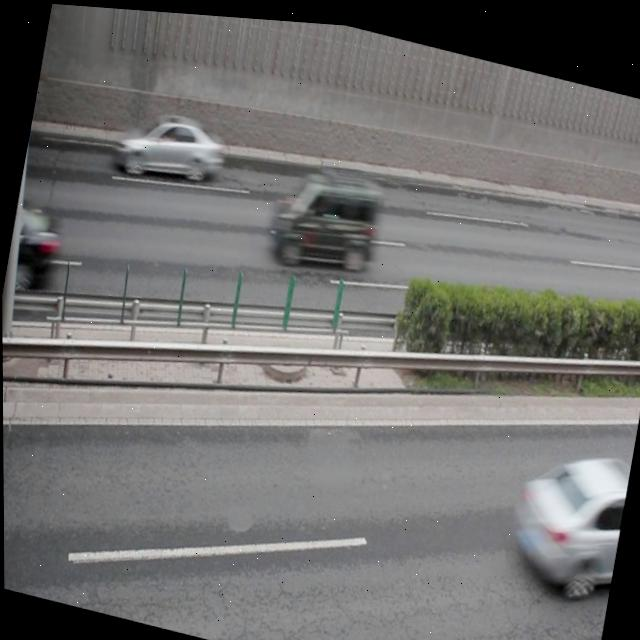car: (496, 425, 631, 594), (264, 149, 384, 276), (109, 96, 228, 194)
